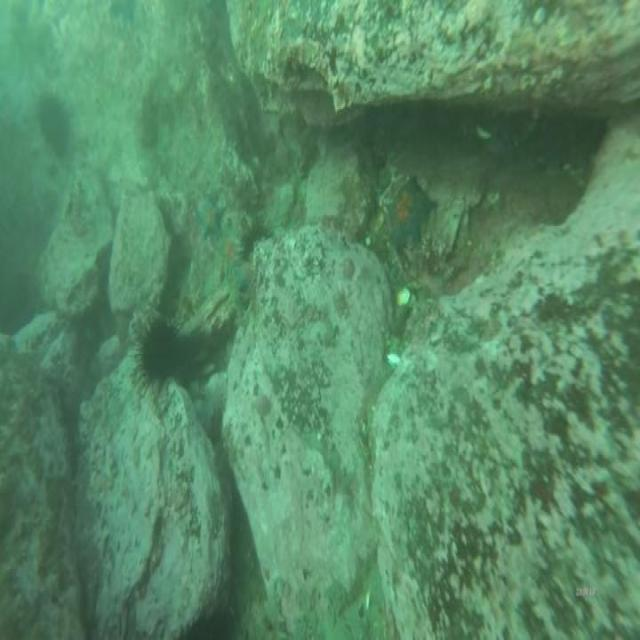echinus: (138, 314, 177, 396), (34, 87, 71, 160)
starfish: (388, 174, 432, 254), (193, 190, 227, 242)
